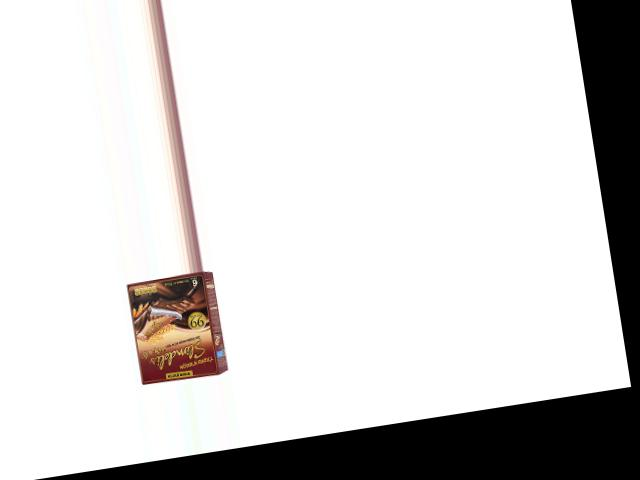chocolate: (116, 268, 233, 389)
